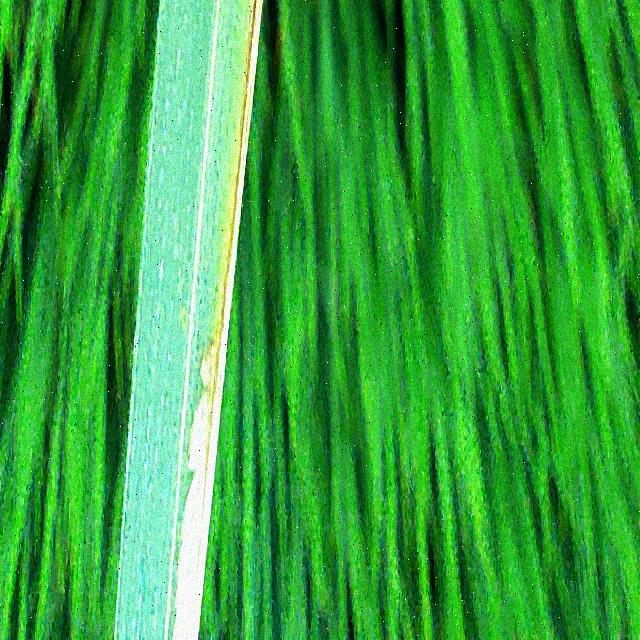BLB: (173, 0, 263, 635)
